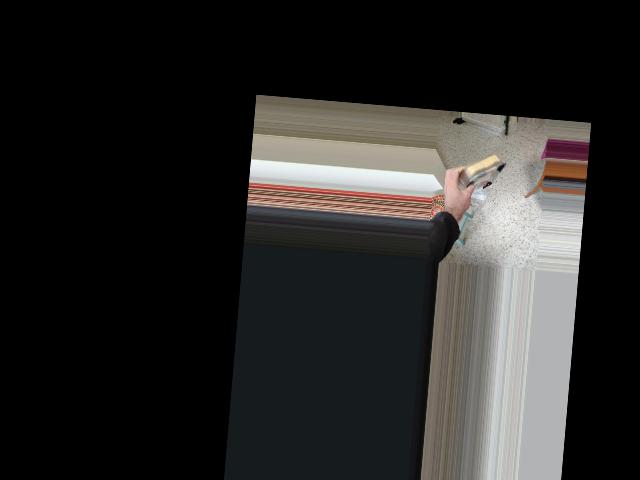cheese: (436, 140, 516, 207)
